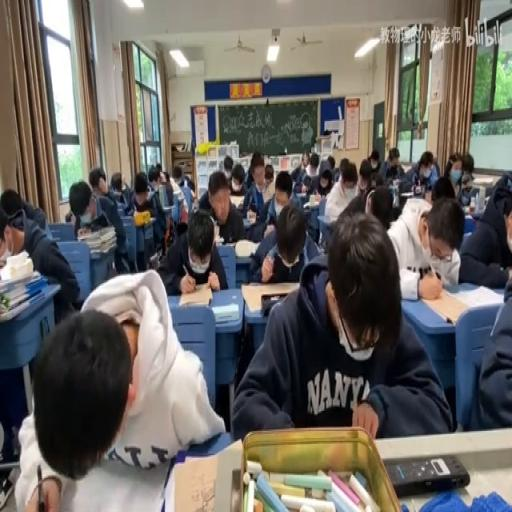calculator: (169, 452, 220, 512), (240, 280, 298, 313), (452, 284, 502, 310), (178, 284, 212, 308), (77, 224, 114, 242), (212, 301, 238, 323), (232, 238, 260, 256), (0, 449, 21, 471), (90, 244, 115, 258), (134, 213, 154, 226), (228, 194, 245, 208), (303, 196, 322, 208), (470, 175, 496, 183), (218, 239, 236, 250), (212, 222, 221, 242), (158, 184, 166, 206), (242, 215, 256, 226), (398, 190, 414, 198), (403, 164, 415, 174), (294, 191, 308, 199)
paper: (18, 269, 224, 509), (234, 209, 444, 442), (0, 193, 78, 322), (384, 190, 462, 296), (455, 173, 512, 286), (156, 206, 226, 296), (248, 199, 309, 286), (136, 168, 170, 253), (402, 148, 438, 196), (352, 162, 383, 212), (304, 155, 334, 196), (455, 151, 476, 205), (108, 168, 130, 208), (0, 189, 26, 222), (381, 145, 404, 182), (88, 165, 110, 198), (290, 151, 309, 189), (226, 161, 246, 195), (430, 175, 454, 202), (261, 162, 276, 202), (274, 173, 291, 202), (501, 206, 510, 256), (249, 151, 264, 175), (147, 164, 160, 188), (444, 152, 458, 174), (134, 196, 150, 214), (172, 164, 184, 186), (369, 148, 379, 171), (184, 176, 194, 192), (158, 169, 168, 182), (332, 166, 339, 184), (64, 209, 74, 221), (326, 155, 334, 169), (338, 156, 346, 170), (224, 165, 231, 176)
person: (384, 454, 470, 496), (0, 469, 14, 511), (118, 188, 125, 200)
